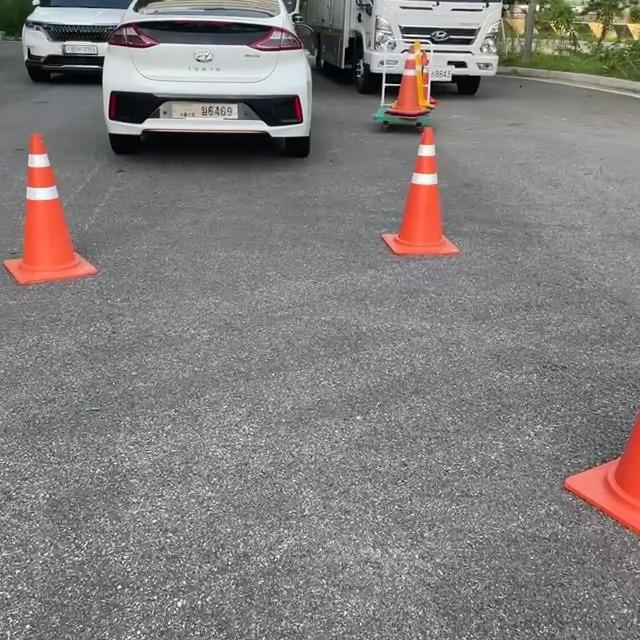fallen_object: (1, 116, 125, 308), (546, 300, 640, 541), (356, 115, 467, 276), (380, 20, 452, 134)
